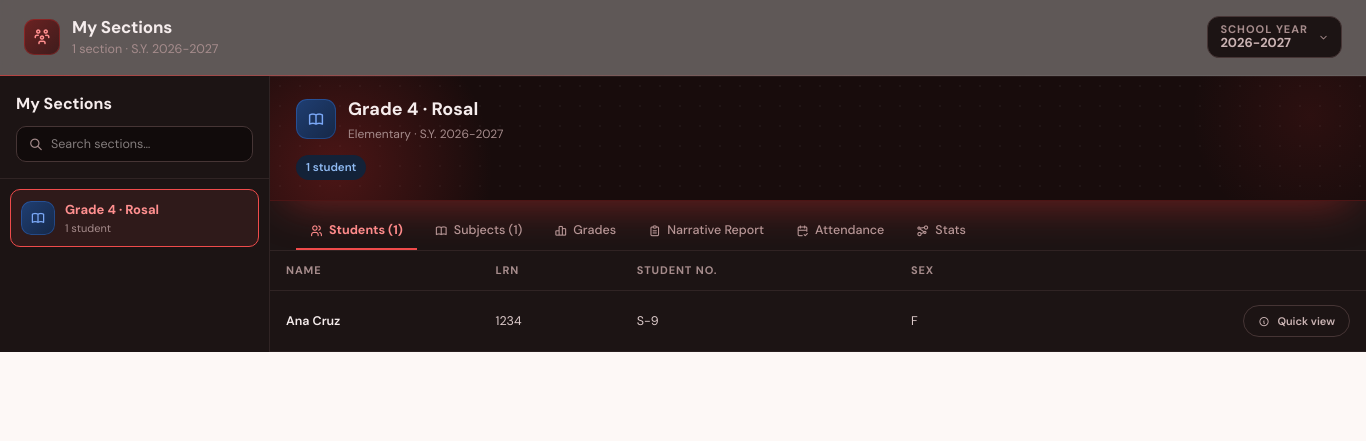
Scenario: TeacherSectionsPage — dark mode › shows the section and its roster, with the quick view
Expected: the 2nd text "Grade 4 · Rosal" is shown, [65,200,159,220]
Expected: the text "Ana Cruz" is shown, [270,291,480,352]
Click the button "Quick view". click: (1297, 322)
box: [1243,306,1350,338]
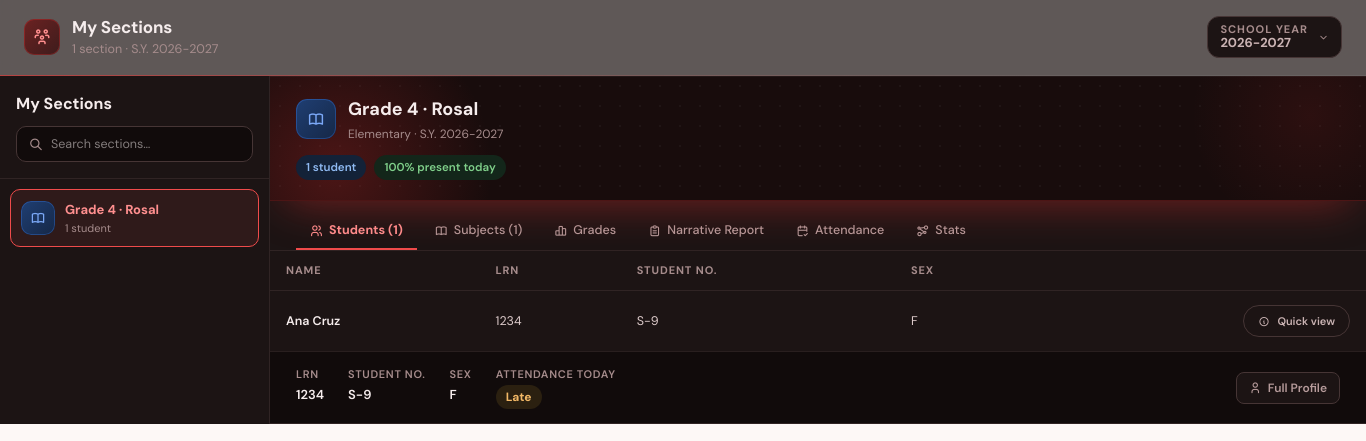
Expected: the button "Full Profile" is shown, [1236,372,1340,404]
